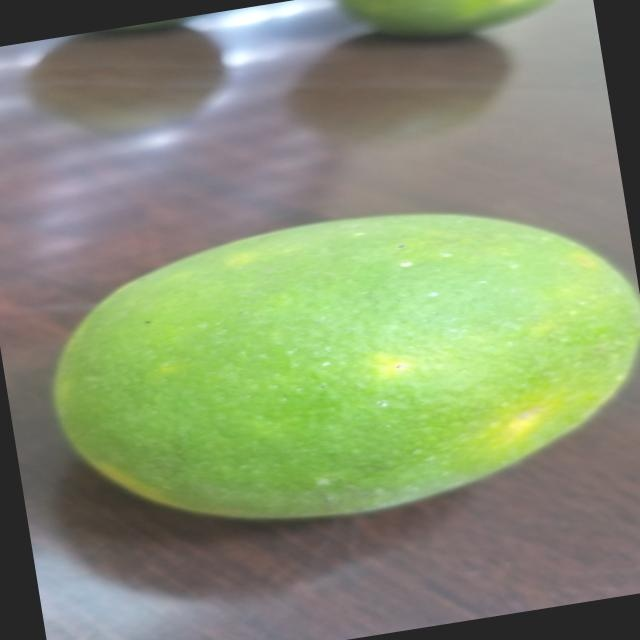agrume: (8, 173, 640, 566)
